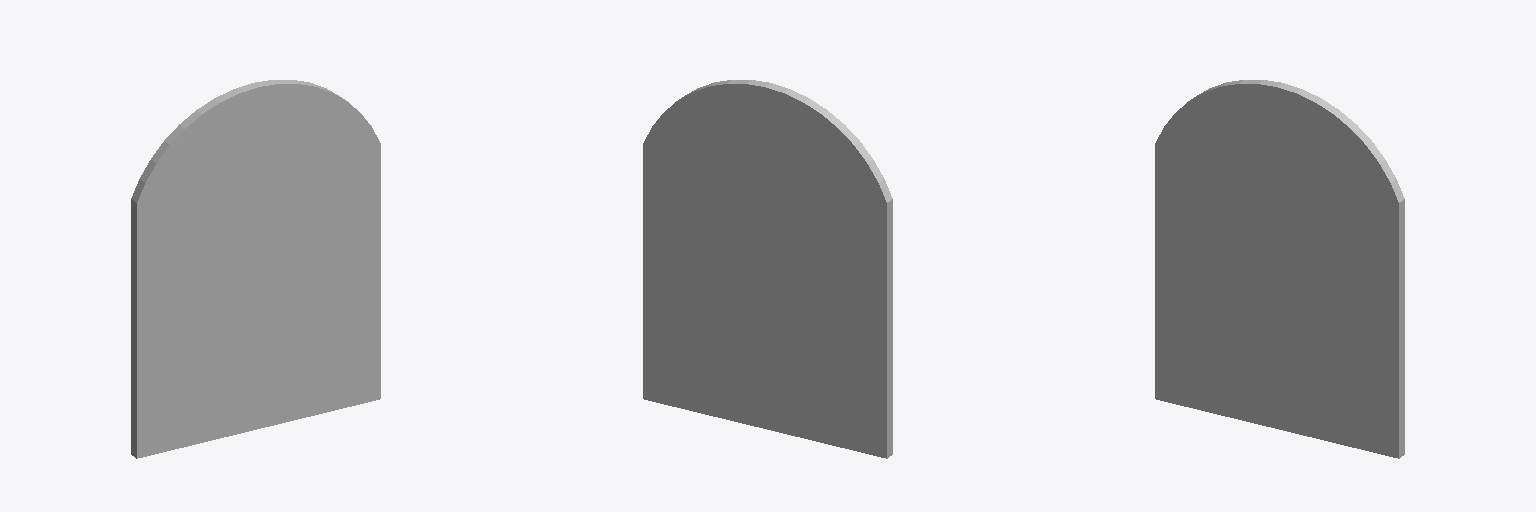
The model's file is Archway_Door.obj.
3 renders of one model, left to right at view 1: azimuth 30°, elevation 25°; view 2: azimuth 150°, elevation 25°; view 3: azimuth 330°, elevation 25°, orthographic.
Visible parts, largest first — view 1: Door_Cube.003; view 2: Door_Cube.003; view 3: Door_Cube.003.
Boxes of the visible parts, <box> form: Door_Cube.003: <box>131,80,380,458</box>; Door_Cube.003: <box>643,80,892,458</box>; Door_Cube.003: <box>1155,80,1404,458</box>.
Bounding box in the file's own units: 6 × 8.03 × 0.25.